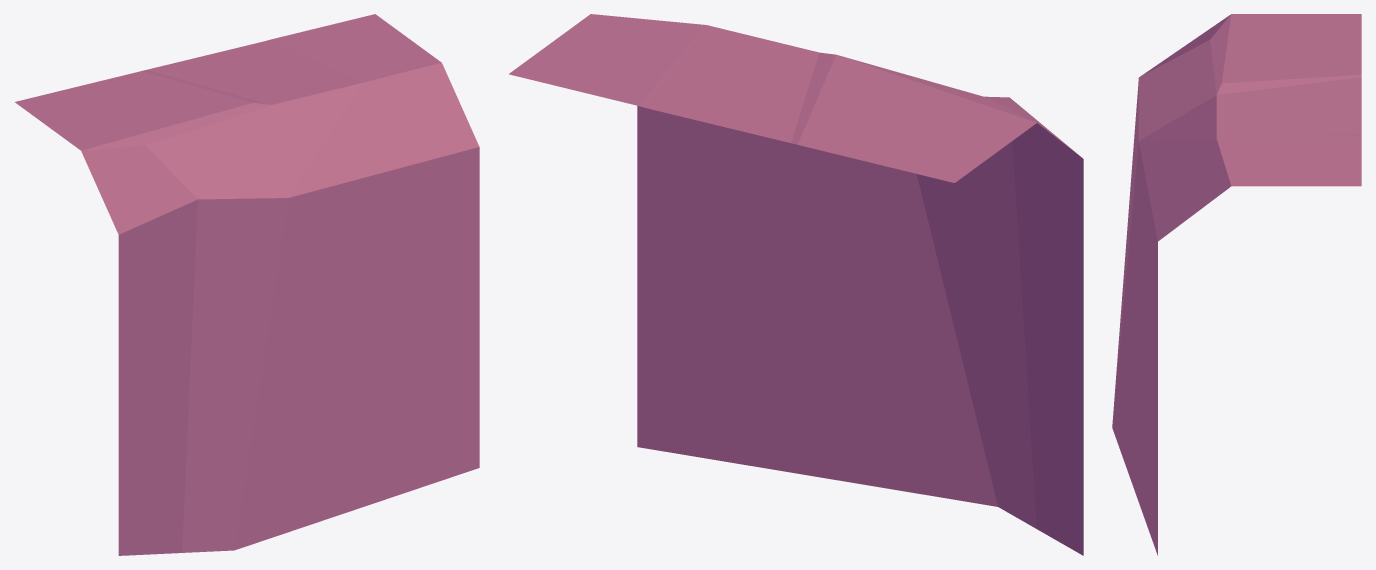
The model's file is Module_Wall_Out_2x2_Mesh_v01.fbx.
3 views of the same model, side by side, from view 1: azimuth 30°, elevation 25°; view 2: azimuth 150°, elevation 25°; view 3: azimuth 270°, elevation 25° (orthographic). The views are drawn at different scales.
Visible parts, largest first — view 1: Module_Wall_Out_2x2_Mesh_v01; view 2: Module_Wall_Out_2x2_Mesh_v01; view 3: Module_Wall_Out_2x2_Mesh_v01.
Boxes of the visible parts, bbox=[...] form: Module_Wall_Out_2x2_Mesh_v01: bbox=[15, 14, 479, 555]; Module_Wall_Out_2x2_Mesh_v01: bbox=[509, 14, 1083, 555]; Module_Wall_Out_2x2_Mesh_v01: bbox=[1112, 14, 1361, 555].
Bounding box in the file's own units: 400 × 411 × 245.
